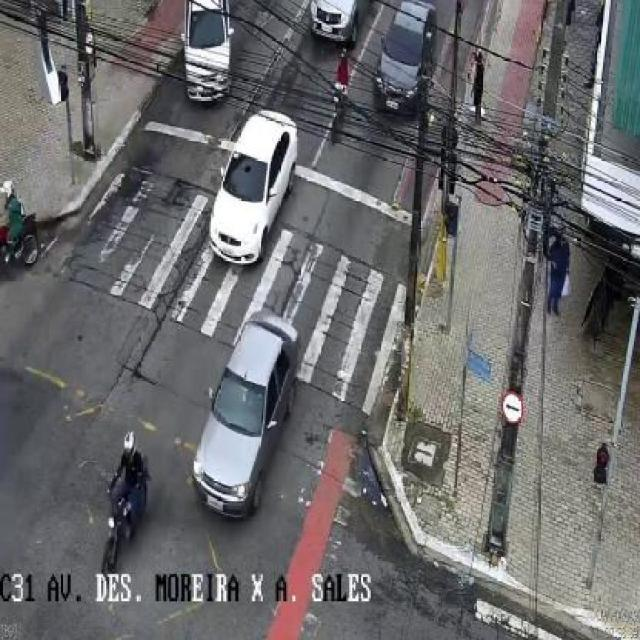Car: (191, 308, 300, 520), (208, 111, 300, 268), (373, 2, 436, 116), (181, 2, 235, 103), (308, 1, 362, 46)
Cycle: (102, 475, 149, 573), (0, 214, 45, 268), (328, 77, 350, 139)
